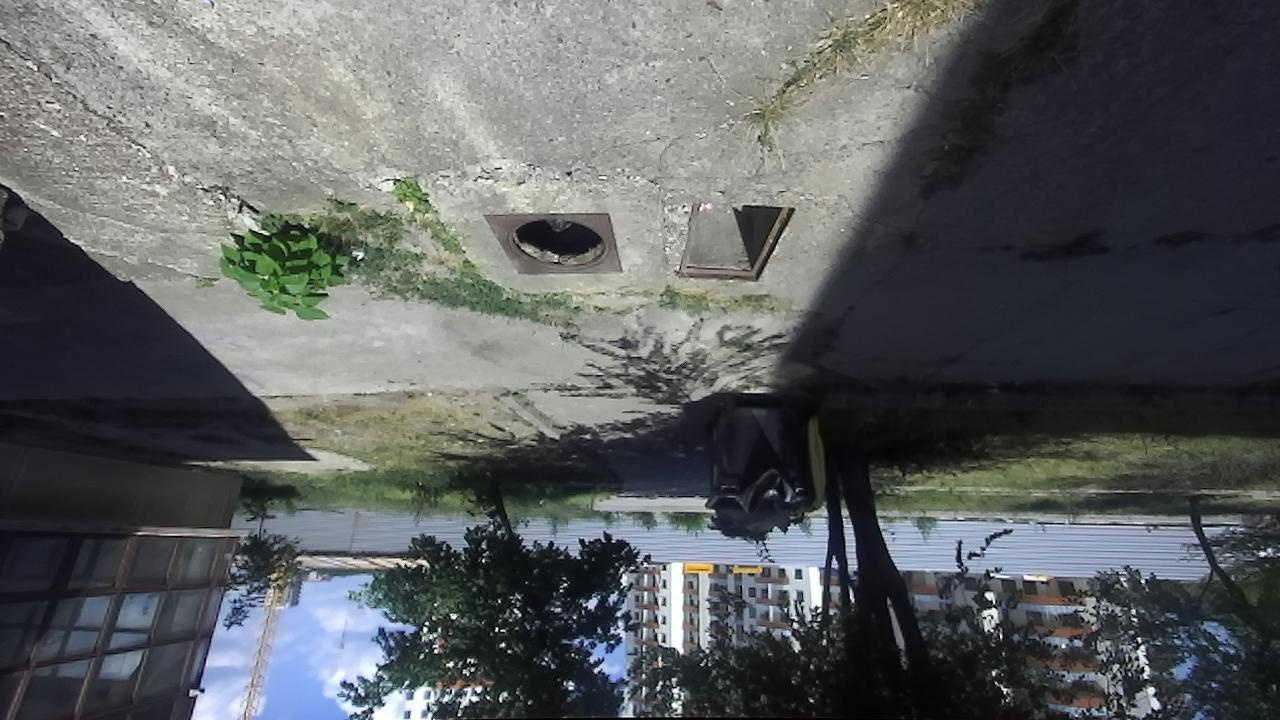drain: (670, 199, 795, 285), (503, 215, 608, 271)
